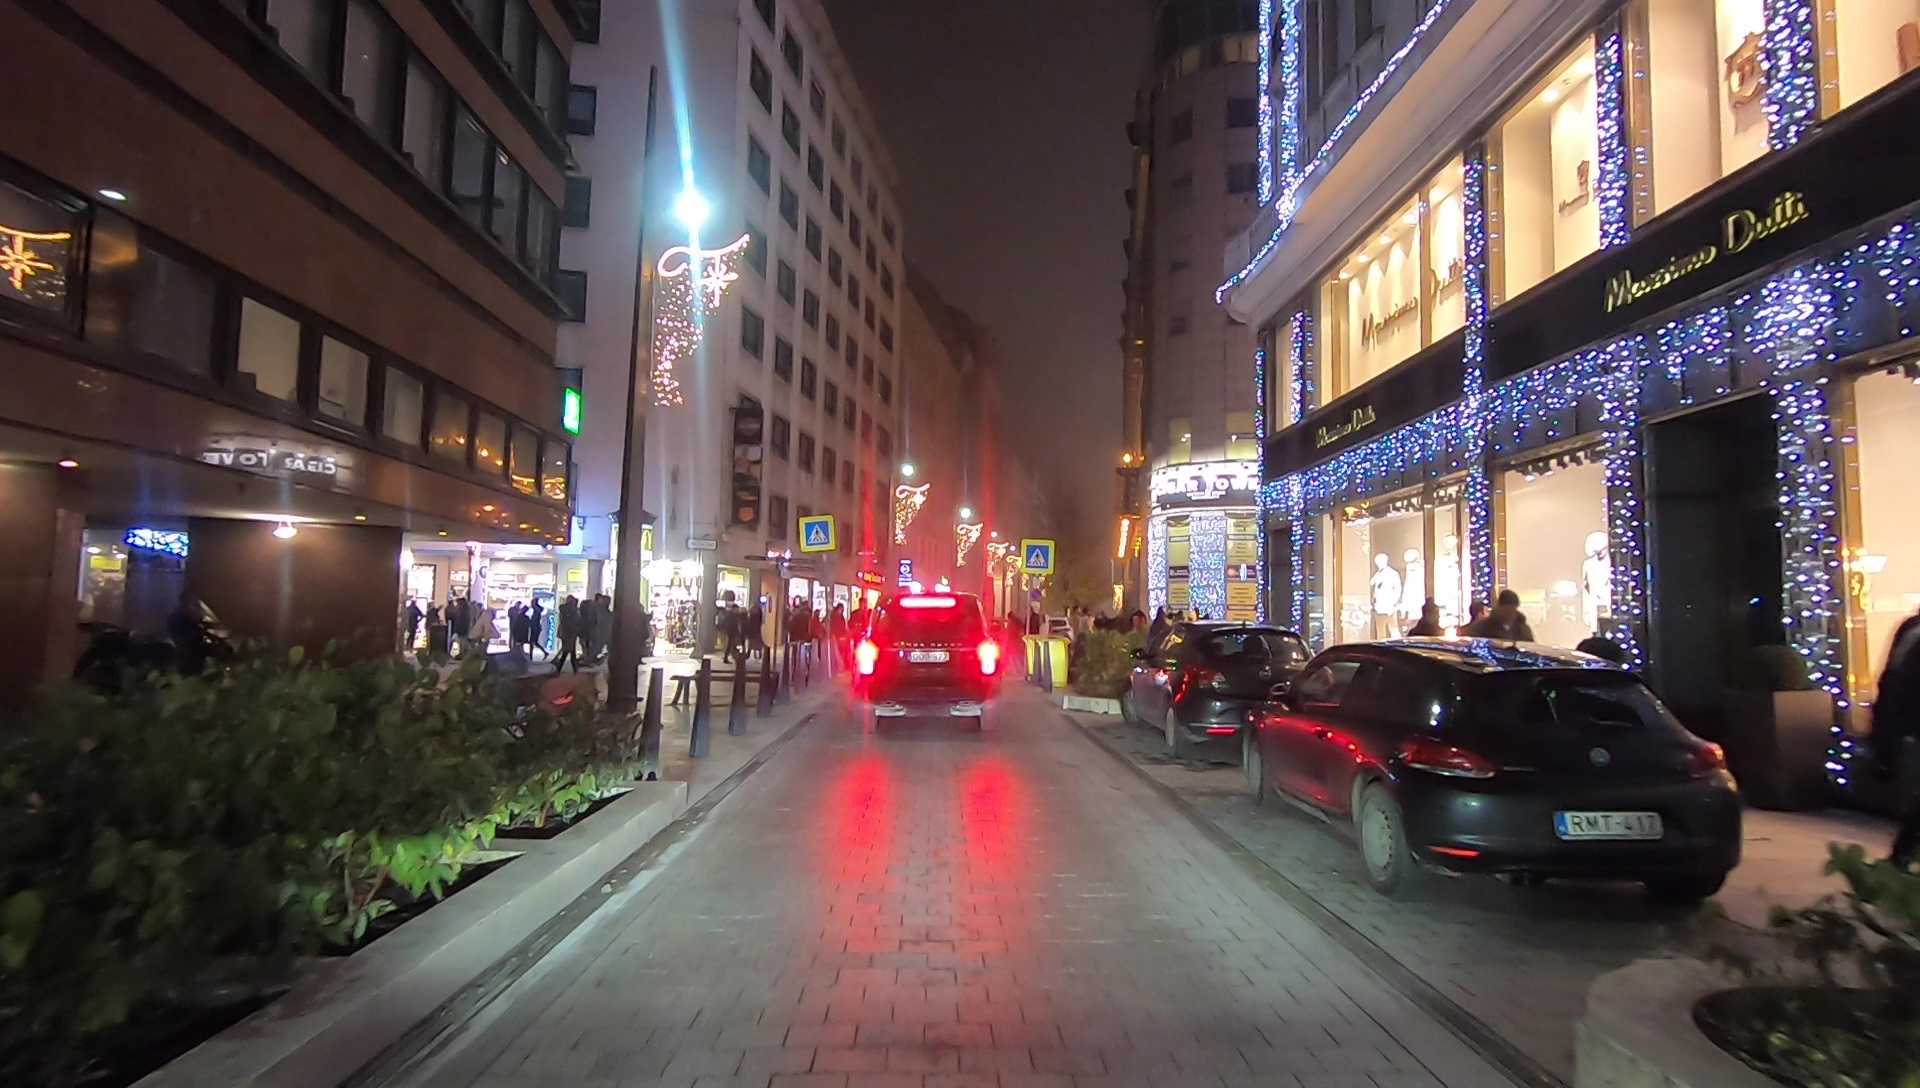person: (1882, 608, 1920, 868)
